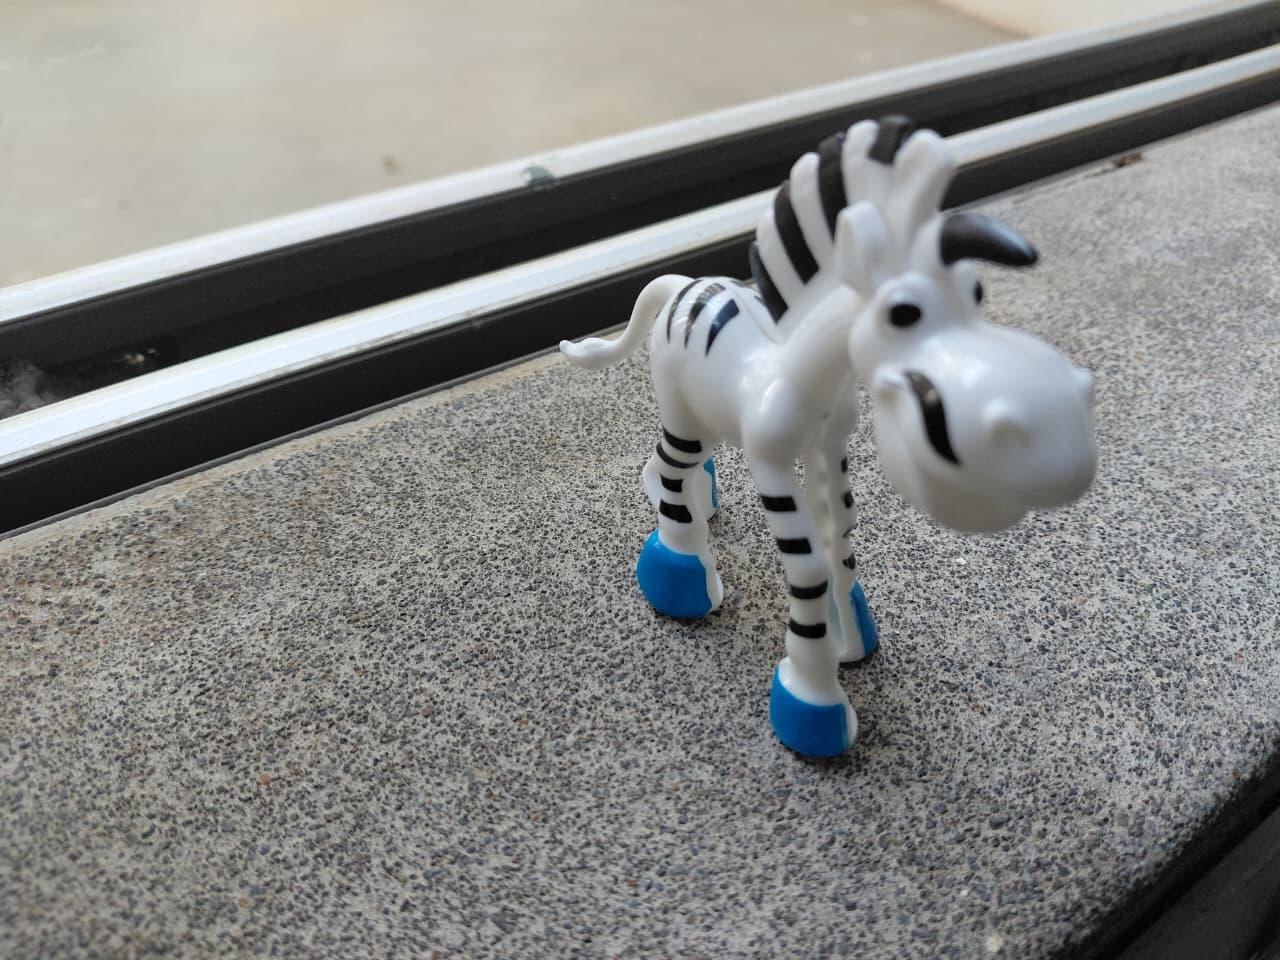zebra: (520, 93, 1128, 776)
